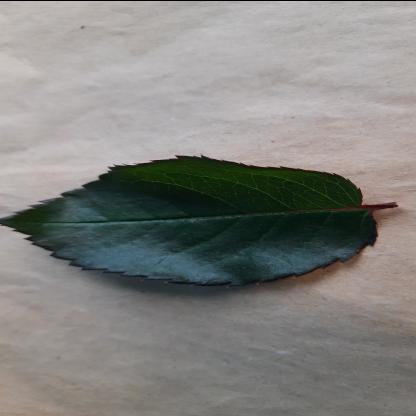normal: (7, 156, 373, 284)
